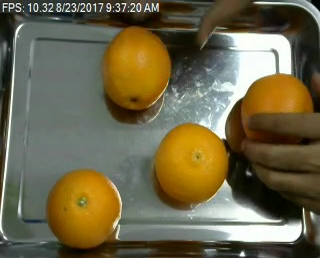Orange: (154, 124, 228, 204), (46, 170, 122, 246), (101, 27, 172, 108)
